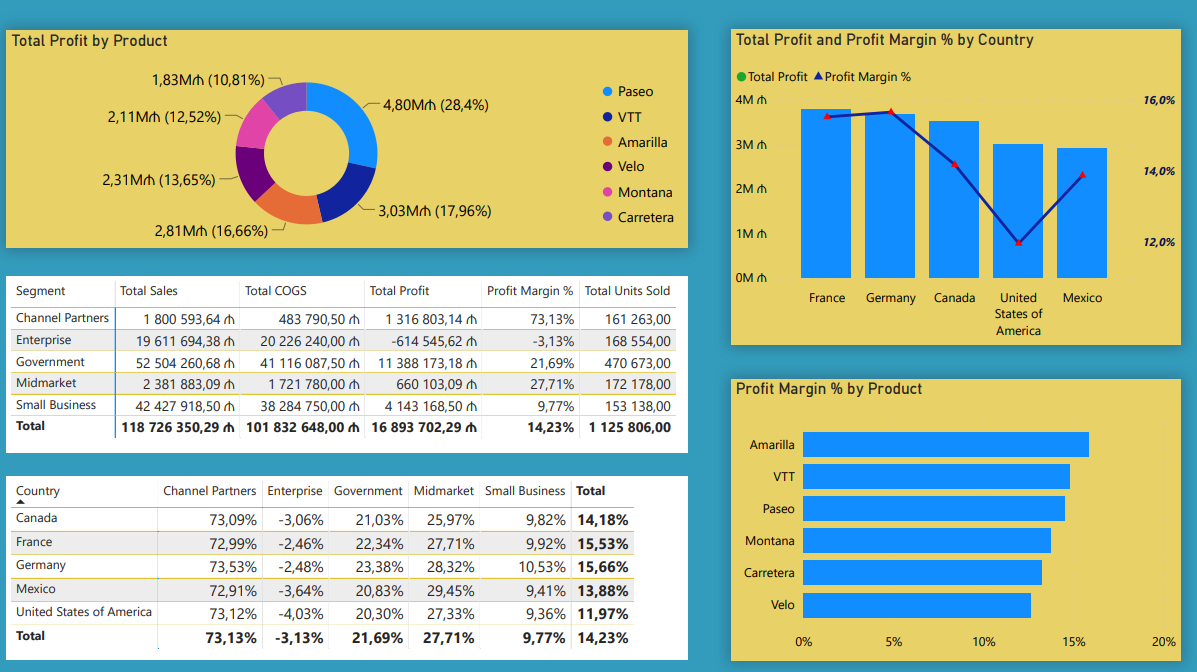

The dashboard page shown, as its layout file describes it:
{"tool":"powerbi","page":{"name":"Margins","canvas":[1280,720],"ordinal":1},"visuals":[{"type":"donutChart","fields":{"Category":["Financials. Product "],"Y":["DAX-lar.Total Profit"]},"box":[11.6,32.6,726.7,232.6],"z":4000},{"type":"barChart","fields":{"Y":["KPI-lar.Profit Margin %"],"Category":["Financials. Product "]},"box":[783.7,404.1,479.8,299.4],"z":5000},{"type":"lineClusteredColumnComboChart","fields":{"Category":["Financials.Country"],"Y":["DAX-lar.Total Profit"],"Y2":["KPI-lar.Profit Margin %"]},"box":[783.7,32.3,479.8,336.2],"z":6000},{"type":"pivotTable","fields":{"Rows":["Financials.Segment"],"Values":["DAX-lar.Total Sales","DAX-lar.Total COGS","DAX-lar.Total Profit","KPI-lar.Profit Margin %","DAX-lar.Total Units Sold"]},"box":[11.6,295.3,726.7,187.2],"z":7000},{"type":"pivotTable","fields":{"Rows":["Financials.Country"],"Columns":["Financials.Segment"],"Values":["KPI-lar.Profit Margin %"]},"box":[11.6,508.1,726.7,195.3],"z":8000}]}

Visuals, with their boxes in screenshot pixels (x1, y1, x2, y2), scaled from the page's 1280x720 canvas onto the 1197x672 screenshot:
donutChart - Financials. Product  x DAX-lar.Total Profit: region(11, 30, 690, 248)
barChart - KPI-lar.Profit Margin % x Financials. Product : region(733, 377, 1182, 657)
lineClusteredColumnComboChart - Financials.Country x DAX-lar.Total Profit: region(733, 30, 1182, 344)
pivotTable - Financials.Segment x DAX-lar.Total Sales: region(11, 276, 690, 450)
pivotTable - Financials.Country x Financials.Segment: region(11, 474, 690, 657)
